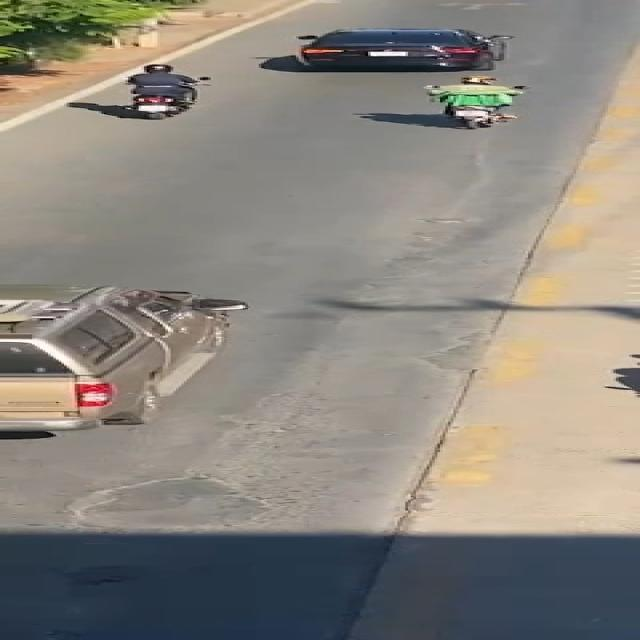car: (259, 19, 533, 74)
